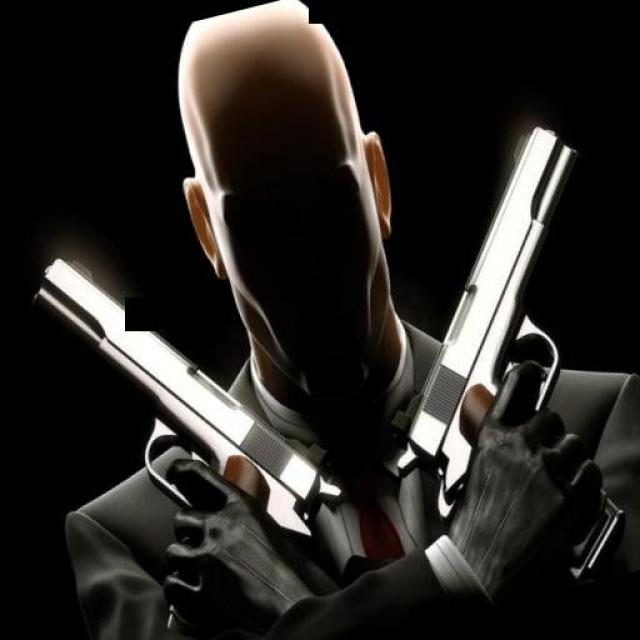gun: (314, 110, 640, 608), (10, 197, 364, 640)
